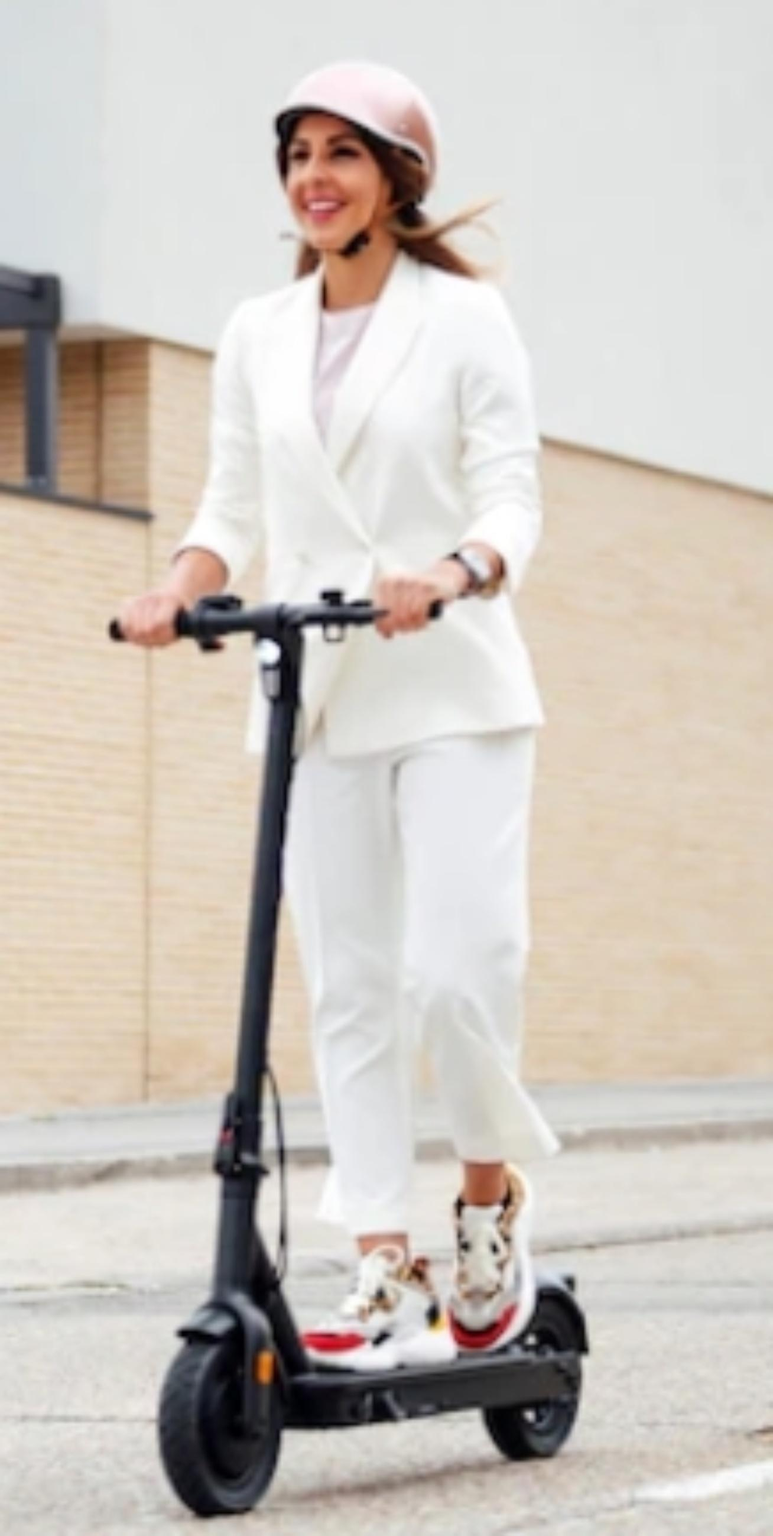helmet: (225, 72, 508, 334)
human: (103, 69, 541, 1341)
kickboard: (149, 1330, 612, 1519)
